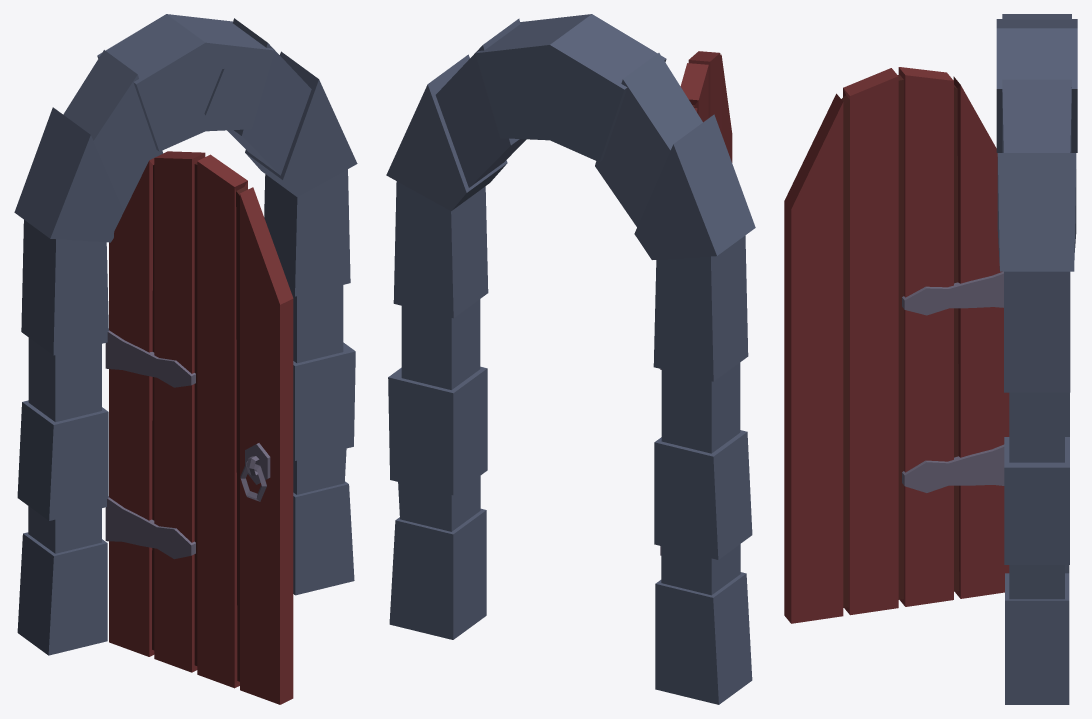
The model's file is DoorOpen.fbx.
3 renders of one model, left to right at view 1: azimuth 30°, elevation 25°; view 2: azimuth 150°, elevation 25°; view 3: azimuth 270°, elevation 25°, orthographic. The views are drawn at different scales.
Parts seen in each view (by area): view 1: door.013; view 2: door.013; view 3: door.013.
Boxes of the visible parts, bbox=[...] form: door.013: bbox=[14, 14, 357, 704]; door.013: bbox=[386, 14, 755, 704]; door.013: bbox=[784, 14, 1077, 704].
Bounding box in the file's own units: 1.06 × 1.91 × 0.8456.
